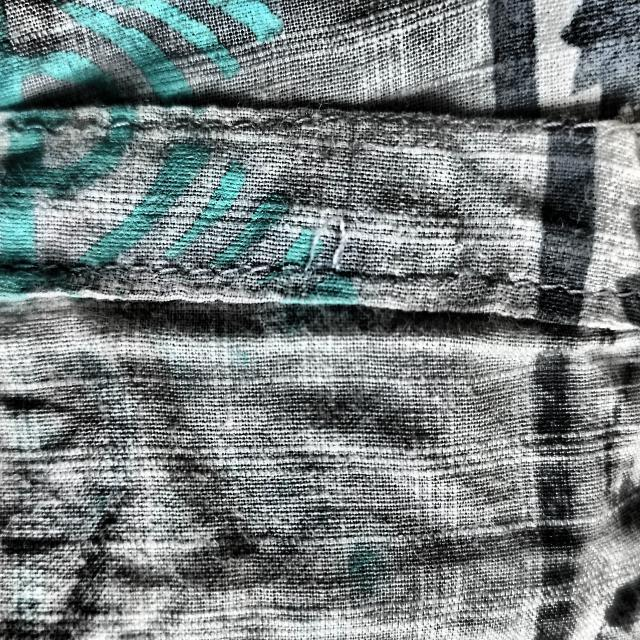gray stitch: (306, 188, 355, 321)
